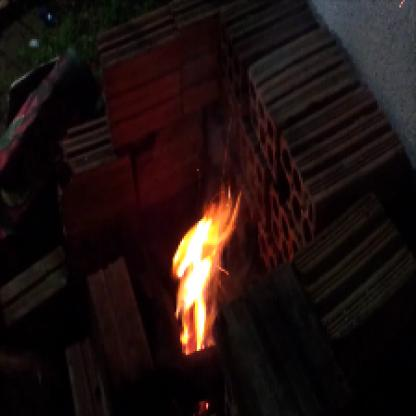Fire: (167, 171, 247, 356)
